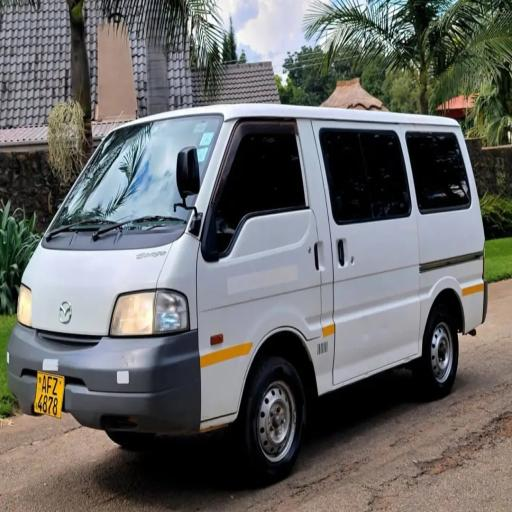number-plates: (34, 369, 64, 418)
